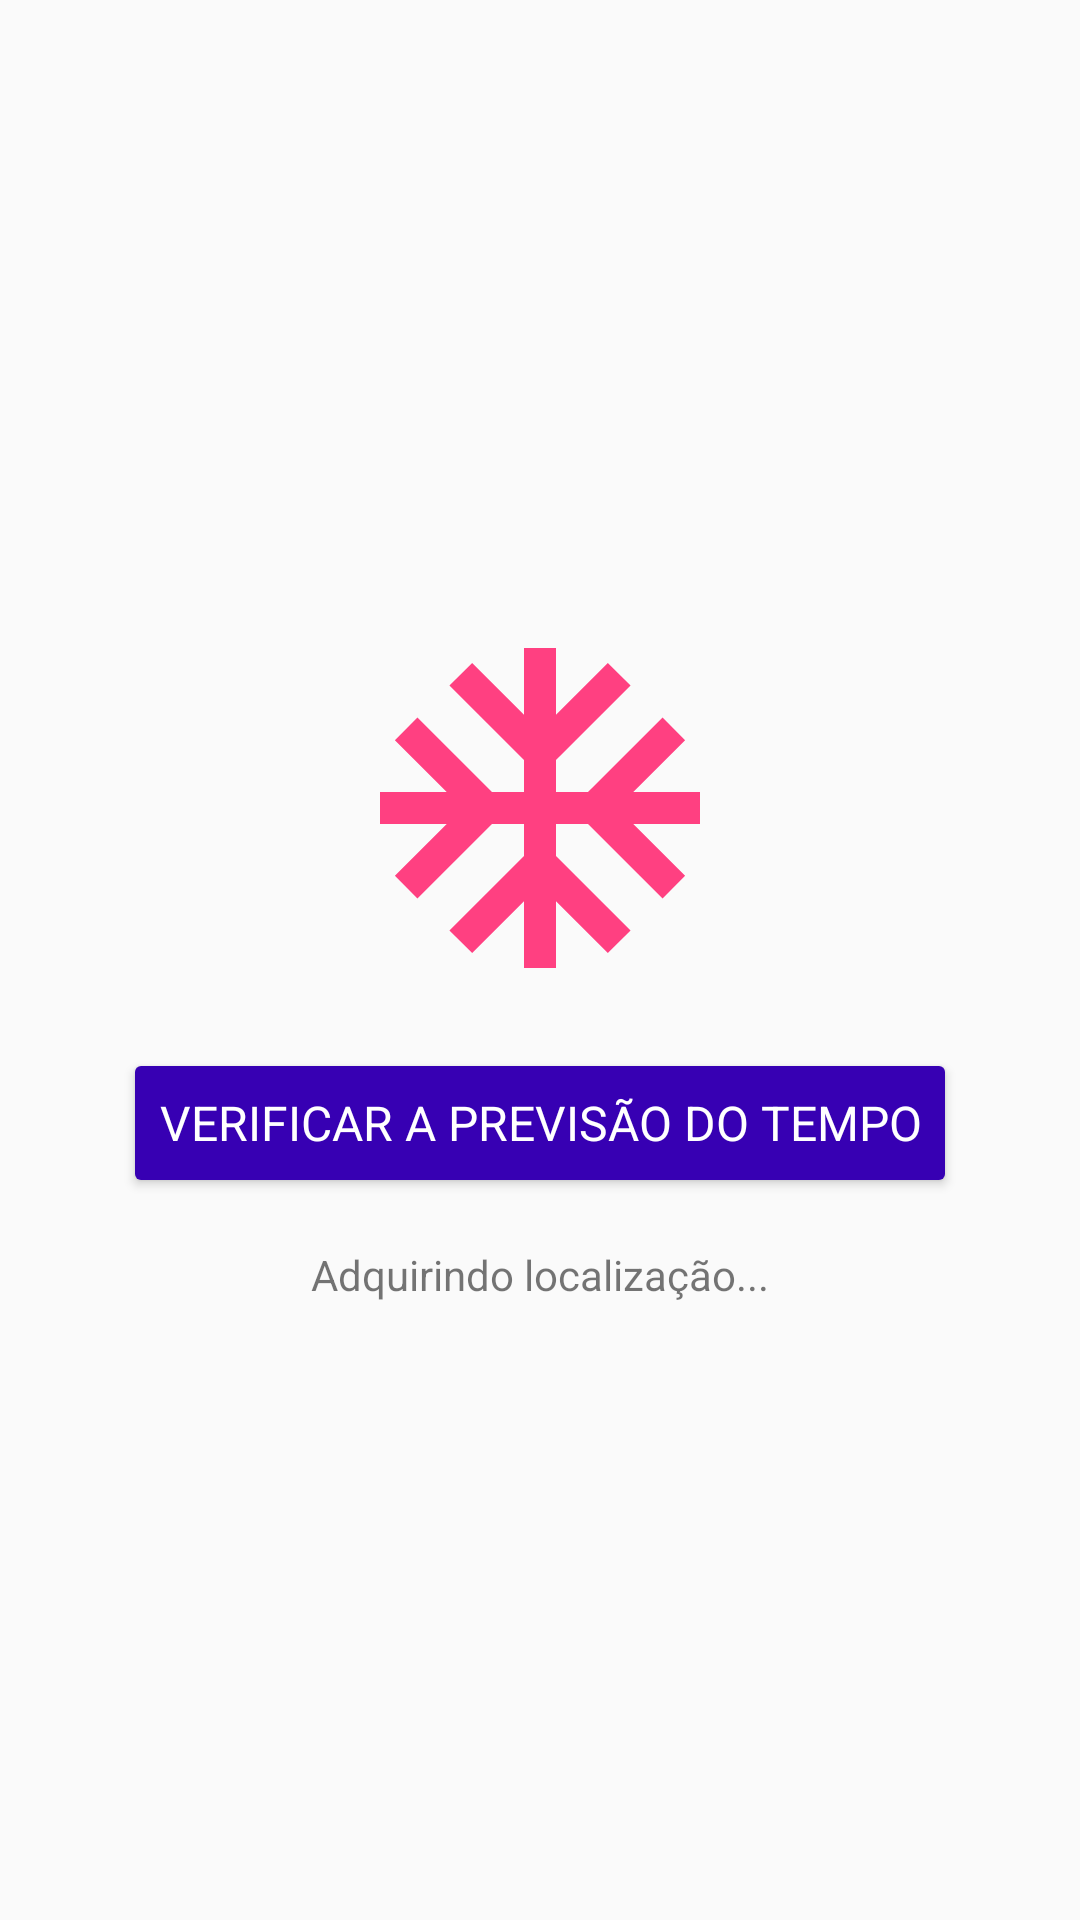

Icon click points for this 1080 × 1920 phone screenshot, format point (x, y):
ac unit: point (540, 808)
